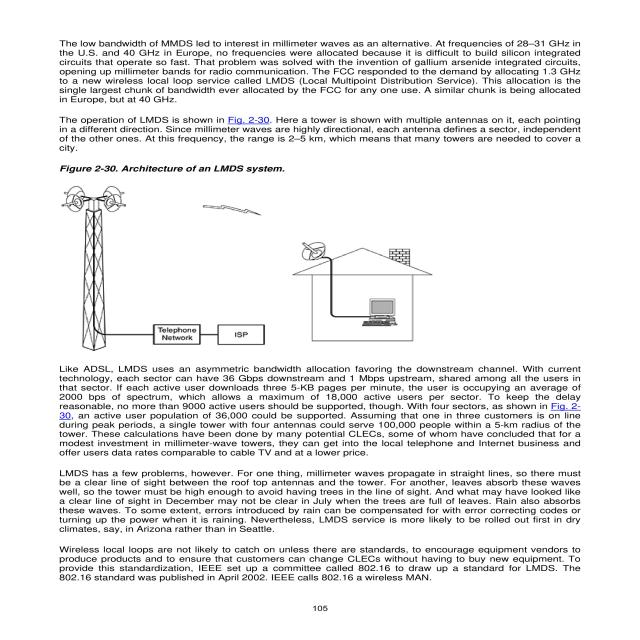diagram: (36, 159, 452, 355)
